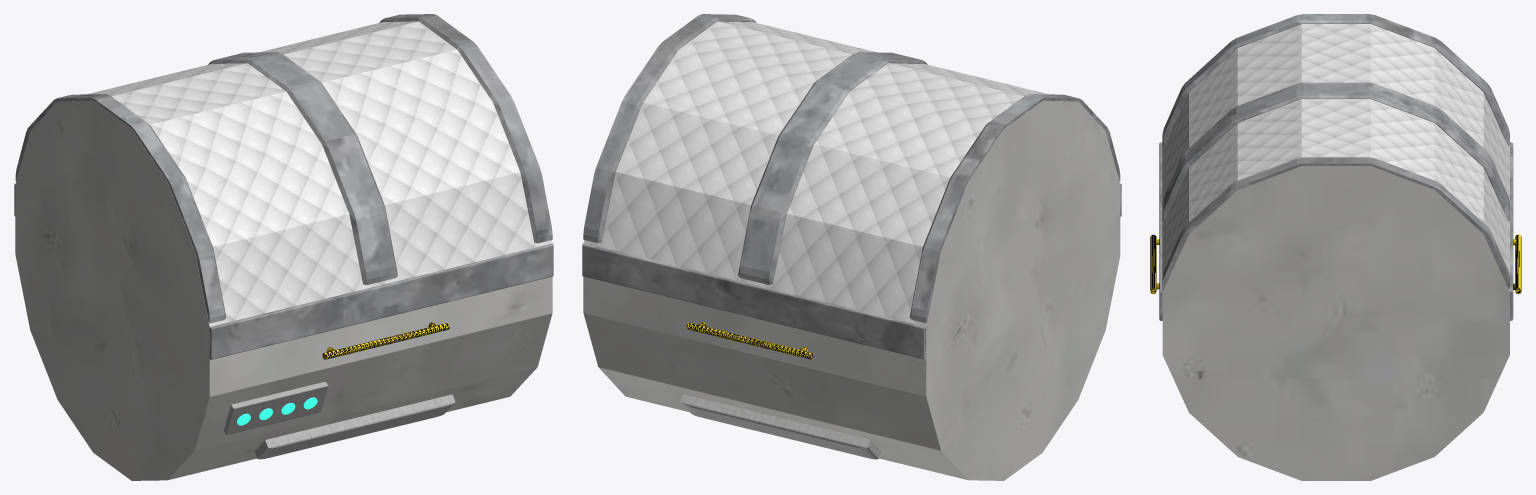
The model's file is Model-3-Centre.glb.
3 renders of one model, left to right at view 1: azimuth 30°, elevation 25°; view 2: azimuth 150°, elevation 25°; view 3: azimuth 270°, elevation 25°, orthographic. The views are drawn at different scales.
Visible parts, largest first — view 1: Hull, Top, Cylinder.001, Hull Bars, Cube.001, Cube.002, Bar; view 2: Hull, Top, Cylinder.001, Hull Bars, Cube.001, Bar.001; view 3: Hull, Top, Cylinder.001, Hull Bars, Bar, Bar.001.
Boxes of the visible parts, x1=… form: Hull: x1=15, y1=100, x2=552, y2=480; Top: x1=72, y1=21, x2=552, y2=326; Cylinder.001: x1=15, y1=14, x2=552, y2=323; Hull Bars: x1=14, y1=183, x2=553, y2=359; Cube.001: x1=254, y1=394, x2=455, y2=459; Cube.002: x1=224, y1=381, x2=328, y2=434; Bar: x1=322, y1=322, x2=449, y2=359; Hull: x1=583, y1=100, x2=1120, y2=480; Top: x1=583, y1=21, x2=1062, y2=326; Cylinder.001: x1=583, y1=14, x2=1120, y2=323; Hull Bars: x1=582, y1=183, x2=1121, y2=359; Cube.001: x1=680, y1=394, x2=881, y2=459; Bar.001: x1=686, y1=322, x2=813, y2=359; Hull: x1=1162, y1=166, x2=1509, y2=480; Top: x1=1162, y1=24, x2=1509, y2=291; Cylinder.001: x1=1162, y1=14, x2=1509, y2=288; Hull Bars: x1=1159, y1=142, x2=1513, y2=320; Bar: x1=1150, y1=234, x2=1159, y2=294; Bar.001: x1=1513, y1=234, x2=1521, y2=294.
Size of the model in its own units: 12 by 11.86 by 12.58.
Materials: 6 (5 with a texture image).
